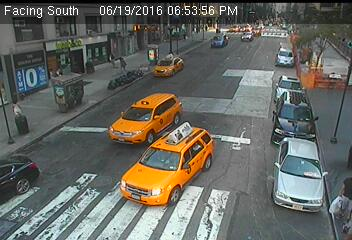neg: (324, 70, 345, 98), (84, 56, 99, 76), (150, 27, 157, 36)
pos: (333, 171, 351, 218), (338, 205, 351, 239), (6, 95, 22, 117), (116, 52, 132, 73), (45, 66, 57, 82), (55, 64, 64, 76)
